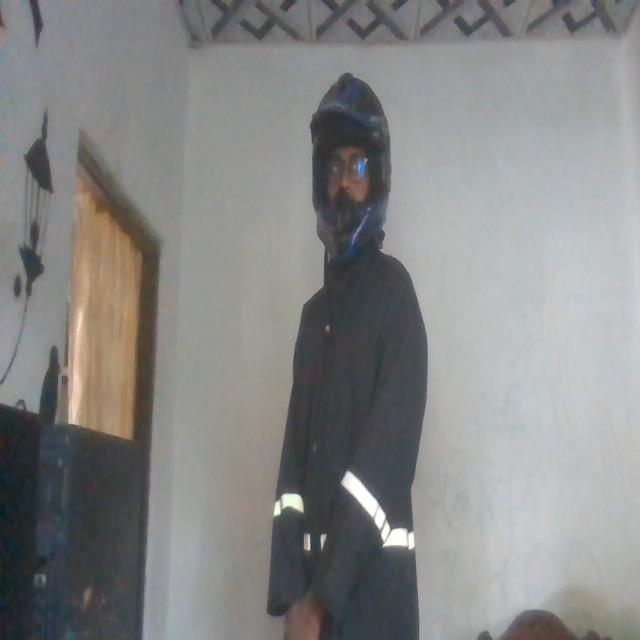Helmet_Wearer: (300, 72, 395, 258)
Jacket_Wearer: (265, 234, 429, 640)
Person: (264, 68, 426, 640)
